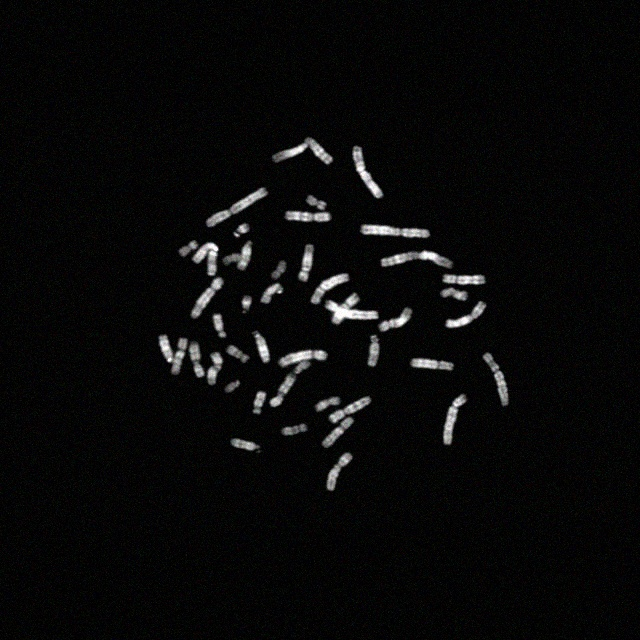chromosome: (205, 184, 271, 230), (268, 360, 310, 408), (269, 136, 335, 166), (352, 144, 384, 198), (378, 249, 454, 271), (188, 276, 224, 320), (482, 352, 510, 408), (328, 394, 372, 424), (445, 300, 487, 330), (362, 222, 431, 240), (311, 272, 349, 304), (442, 396, 466, 446), (326, 452, 354, 491), (324, 301, 378, 321), (191, 240, 219, 278), (322, 416, 354, 448), (278, 348, 328, 368), (332, 291, 360, 325), (379, 304, 413, 332), (297, 242, 315, 284), (170, 336, 188, 376), (283, 210, 332, 223), (206, 352, 224, 386), (253, 330, 272, 362), (189, 340, 205, 378), (236, 240, 254, 270), (158, 333, 174, 365), (230, 439, 262, 455), (442, 274, 484, 286), (412, 358, 454, 370), (261, 283, 283, 305), (224, 343, 248, 363), (175, 238, 197, 258), (315, 394, 339, 412), (250, 390, 266, 416), (270, 258, 288, 280), (368, 336, 380, 366), (304, 196, 328, 210), (222, 254, 250, 266), (280, 424, 308, 436), (232, 221, 250, 239), (224, 378, 242, 396), (214, 312, 226, 338), (442, 288, 466, 300), (240, 297, 252, 315)
